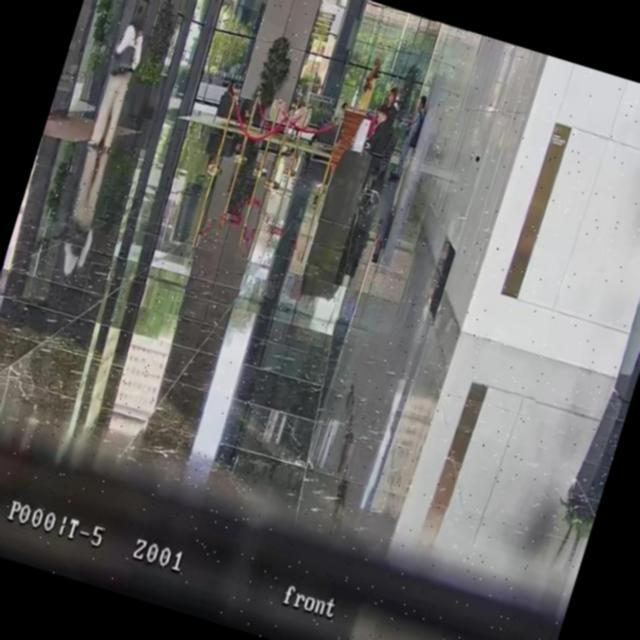person: (84, 8, 152, 155), (390, 92, 430, 180), (361, 103, 398, 173), (219, 78, 261, 126), (380, 86, 402, 120), (330, 101, 348, 128)
